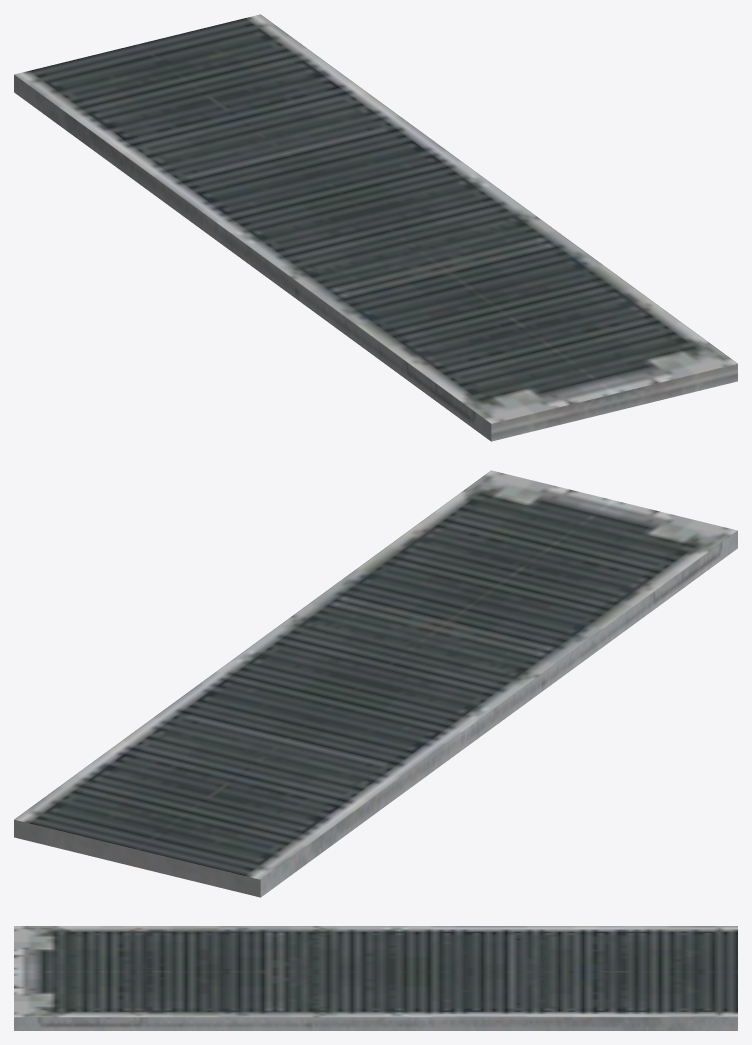
The model's file is lambda_ramp_l0.fbx.
3 views of the same model, one above another, from view 1: azimuth 30°, elevation 25°; view 2: azimuth 150°, elevation 25°; view 3: azimuth 270°, elevation 25° (orthographic). The views are drawn at different scales.
Parts seen in each view (by area): view 1: mesh_node; view 2: mesh_node; view 3: mesh_node.
Part boxes in pixels (left/top/right/bottom): mesh_node: left=14, top=14, right=737, bottom=441; mesh_node: left=14, top=470, right=737, bottom=897; mesh_node: left=14, top=926, right=737, bottom=1030.
Bounding box in the file's own units: 1.83 × 0.1259 × 6.12.
